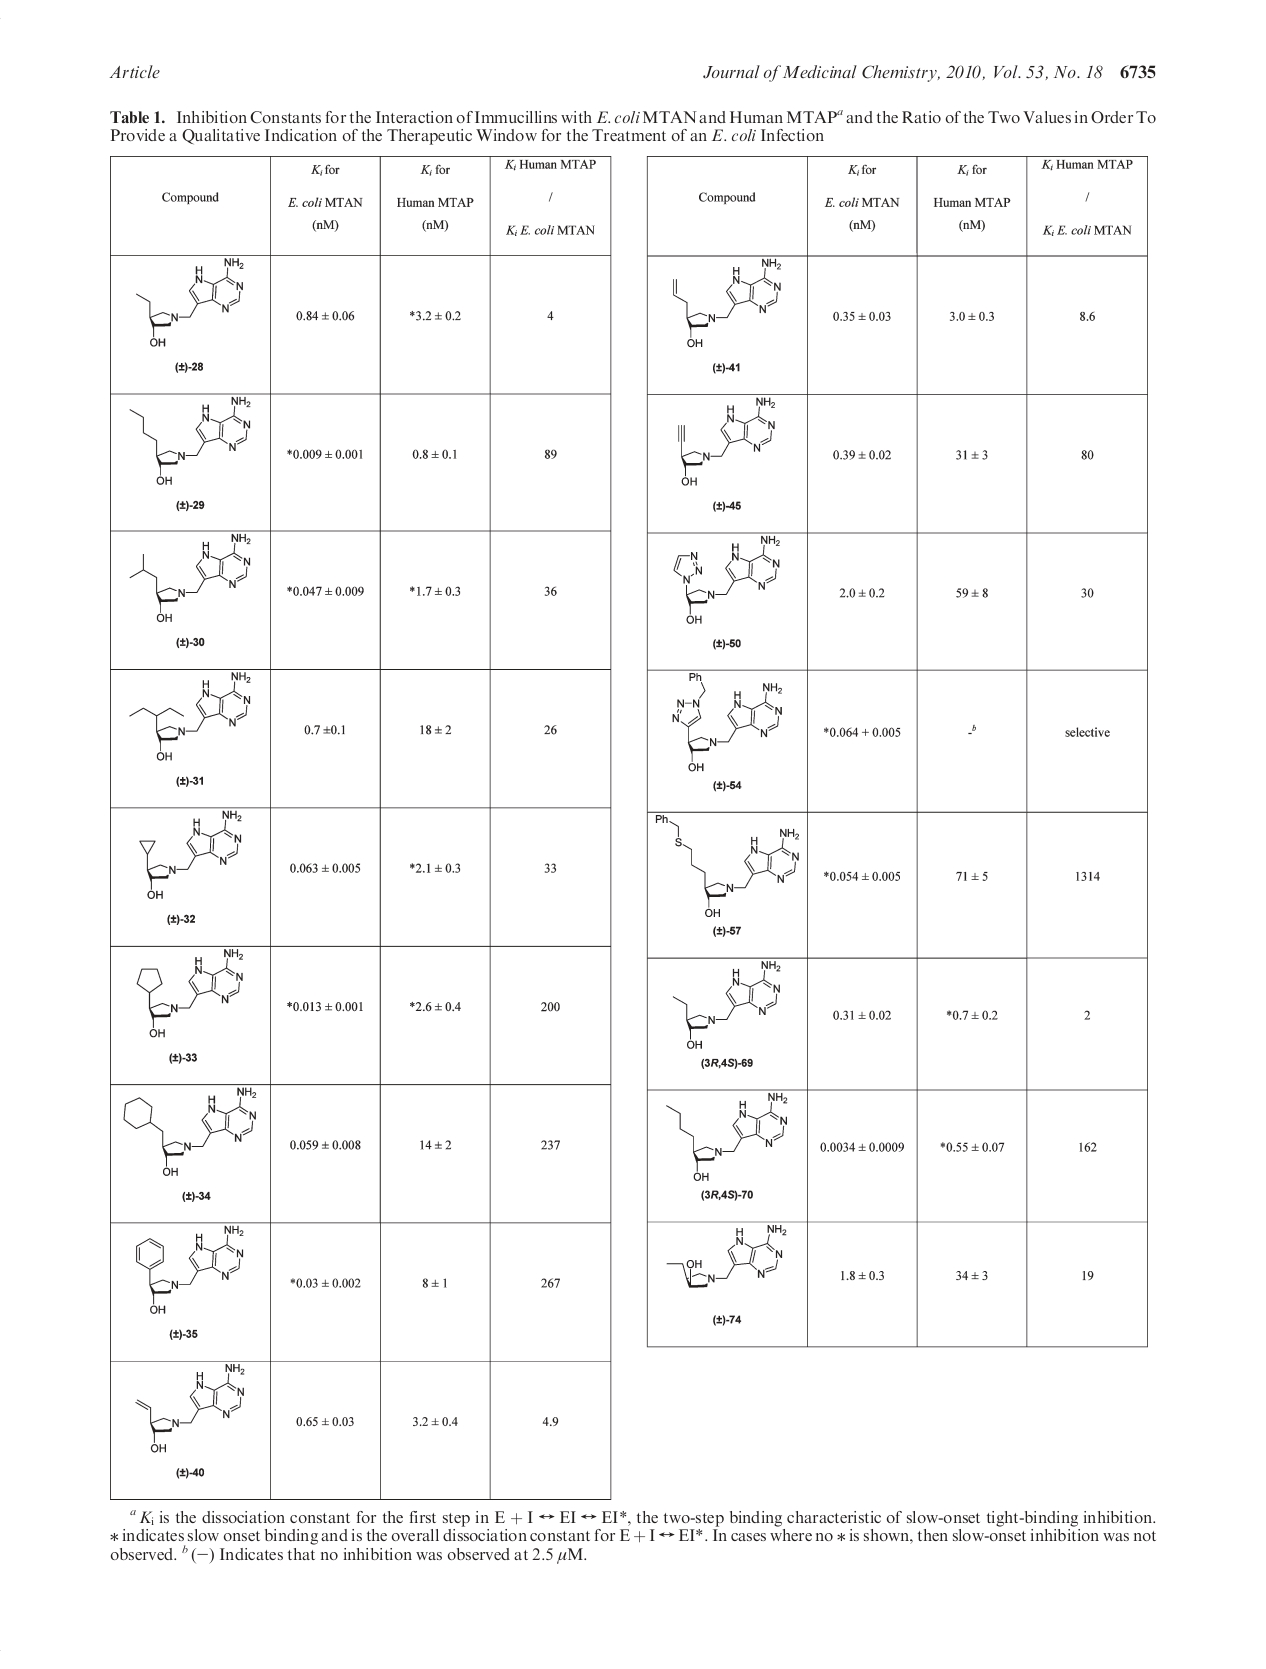exist_molecular: (657, 814, 802, 922), (122, 1087, 258, 1176), (664, 1091, 790, 1182), (672, 670, 785, 773), (128, 532, 255, 622), (129, 395, 251, 485), (129, 672, 251, 762), (136, 1223, 247, 1317), (136, 257, 247, 348), (672, 257, 783, 348), (672, 959, 783, 1051), (673, 535, 782, 626), (134, 1363, 245, 1454), (137, 809, 243, 902), (136, 947, 243, 1039), (677, 396, 777, 488), (665, 1222, 789, 1289)
